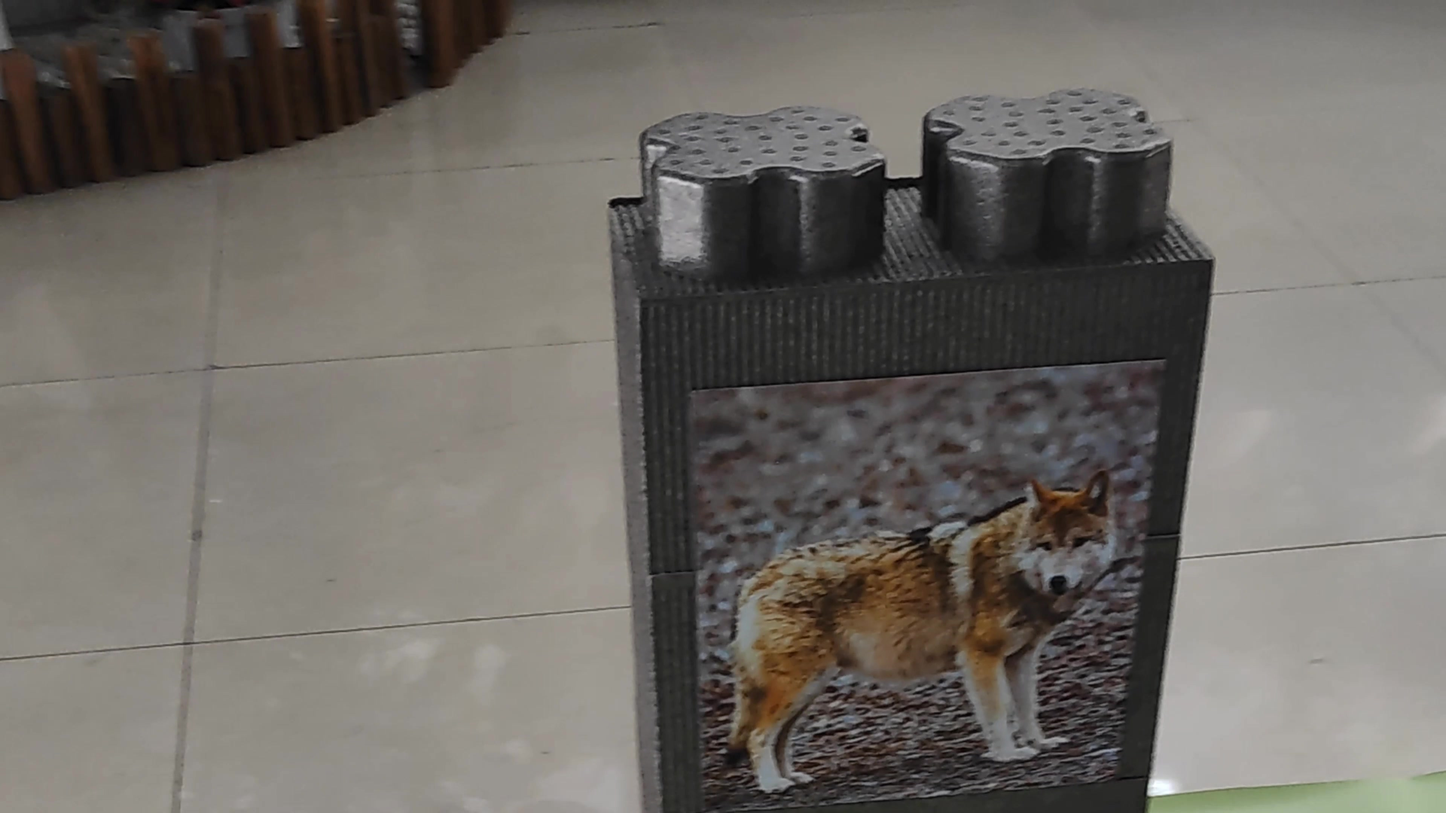wolf: (699, 458, 1120, 789)
